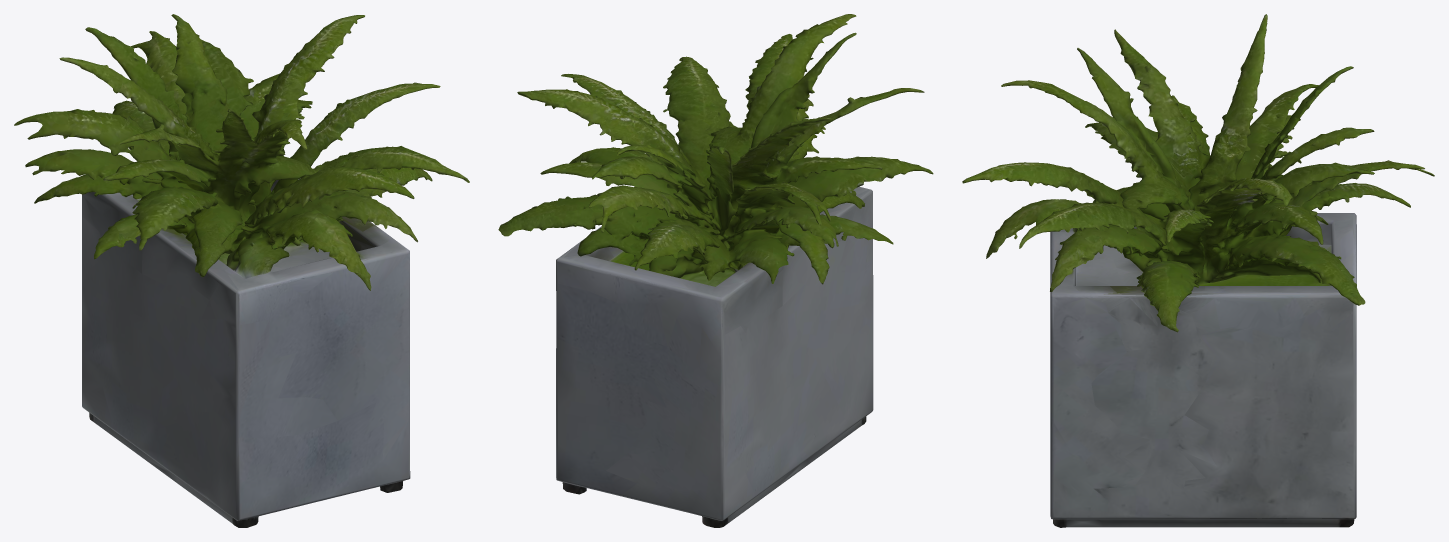
The model's file is planter_fern.fbx.
The picture shows the model from 3 angles, left to right: view 1: azimuth 30°, elevation 25°; view 2: azimuth 150°, elevation 25°; view 3: azimuth 270°, elevation 25°; orthographic projection. The views are drawn at different scales.
Parts seen in each view (by area): view 1: tripo_node_20ef1757-92a8-481e-af7d-c6fabfd55c81; view 2: tripo_node_20ef1757-92a8-481e-af7d-c6fabfd55c81; view 3: tripo_node_20ef1757-92a8-481e-af7d-c6fabfd55c81.
Part boxes in pixels (bbox=[...]): tripo_node_20ef1757-92a8-481e-af7d-c6fabfd55c81: bbox=[14, 14, 469, 527]; tripo_node_20ef1757-92a8-481e-af7d-c6fabfd55c81: bbox=[498, 14, 933, 527]; tripo_node_20ef1757-92a8-481e-af7d-c6fabfd55c81: bbox=[962, 14, 1434, 527].
Size of the model in its own units: 84.39 by 95 by 101.
